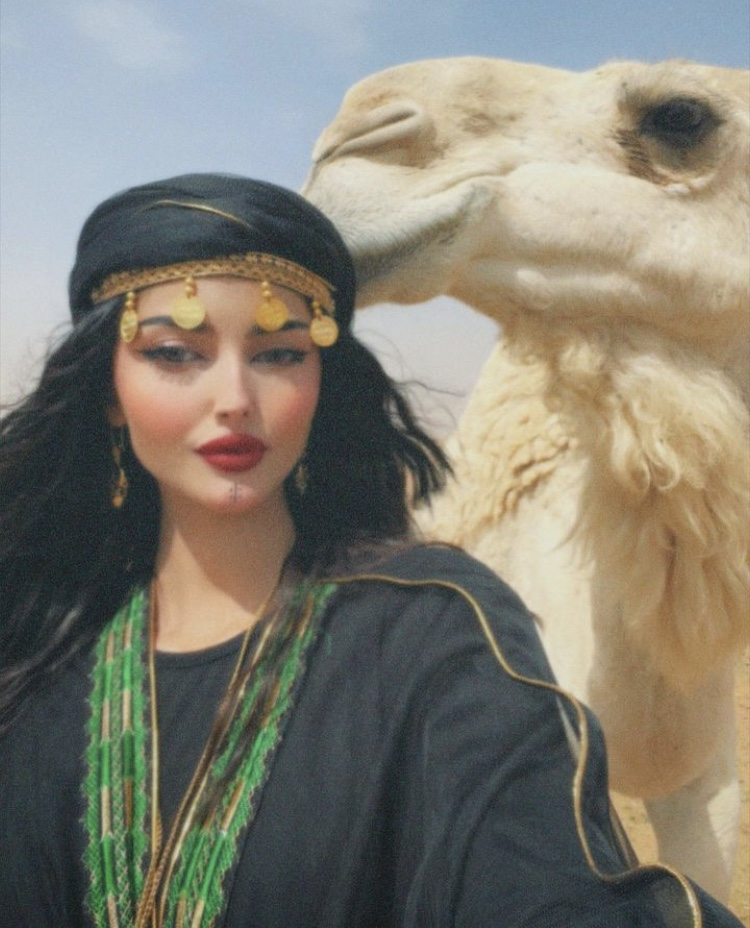Saudi_Founding_Day: (1, 170, 750, 927)
